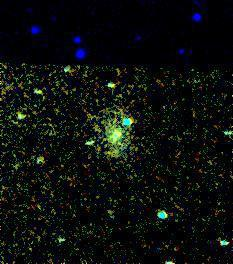star: (102, 122, 132, 152)
